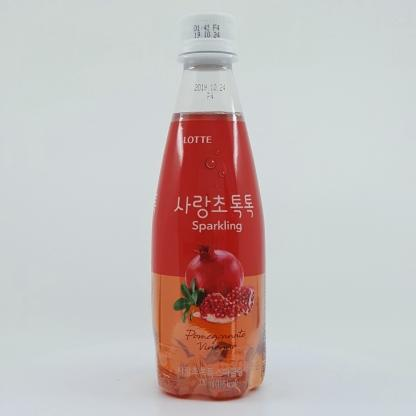-----------330ML: (151, 12, 266, 399)
